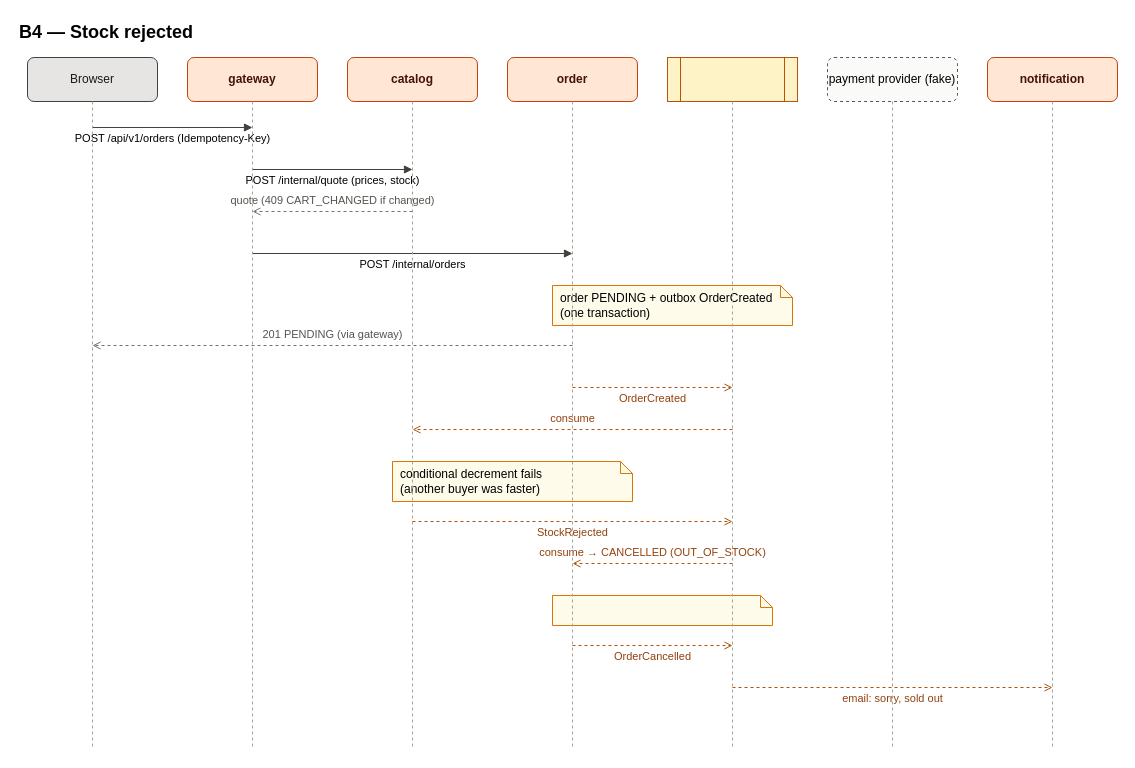
The diagram is 1135 pixels wide and 768 high, and some of its shapes have lost their labels. The shapes that lost their labels are listed below. From the top down, each one's centre as x and y in pixels, then its label:
pixel 732 79: Kafka
pixel 662 610: payment marked not charged
